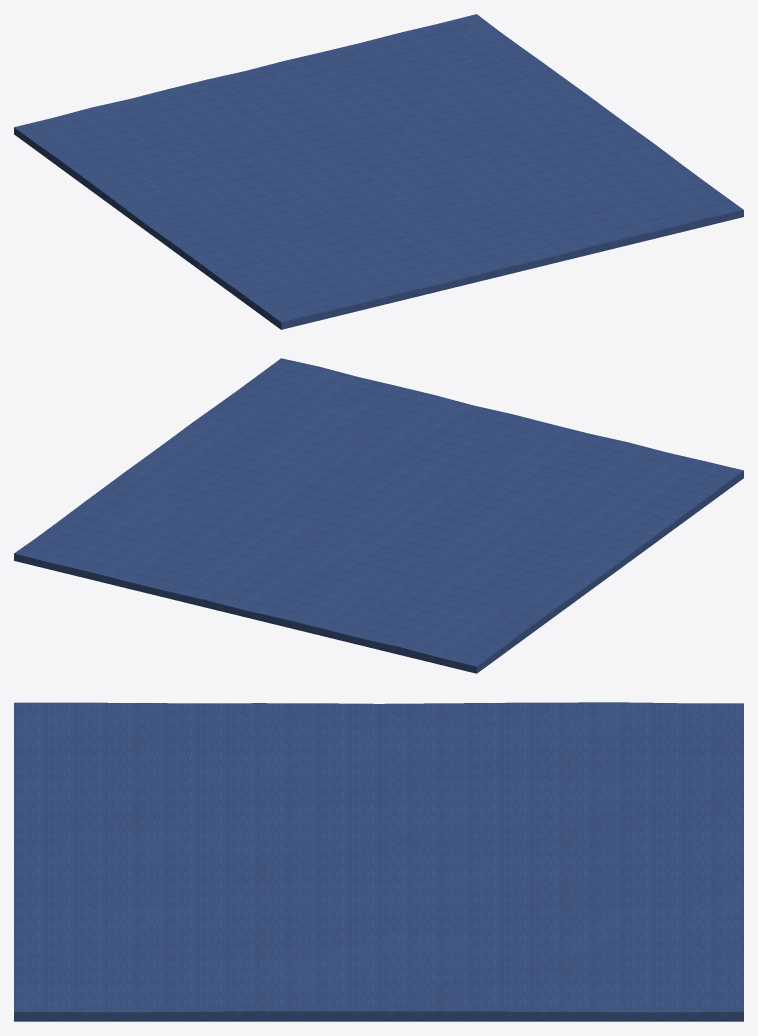
The model's file is sea.fbx.
The picture shows the model from 3 angles, top to bottom: view 1: azimuth 30°, elevation 25°; view 2: azimuth 150°, elevation 25°; view 3: azimuth 270°, elevation 25°; orthographic projection. The views are drawn at different scales.
Parts seen in each view (by area): view 1: sea; view 2: sea; view 3: sea.
Part boxes in pixels (x1=…): sea: x1=14, y1=14, x2=743, y2=329; sea: x1=14, y1=358, x2=743, y2=673; sea: x1=14, y1=702, x2=743, y2=1021.
Bounding box in the file's own units: 2400 × 39.5 × 2400.
